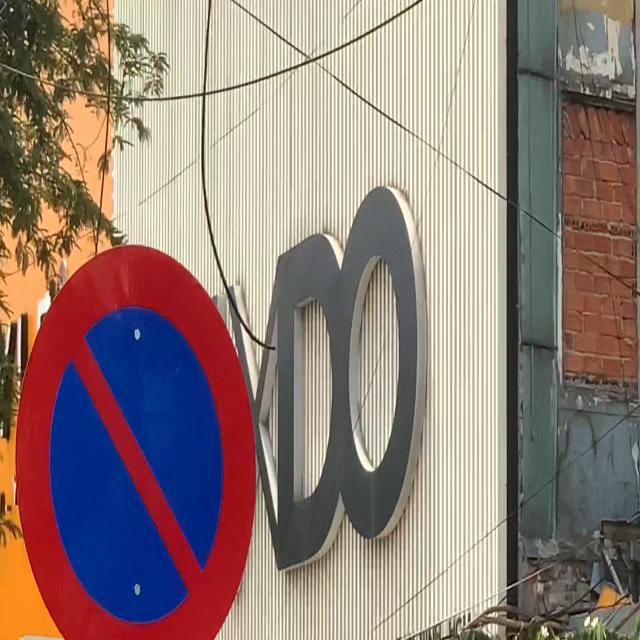P.131a: (15, 229, 264, 640)
